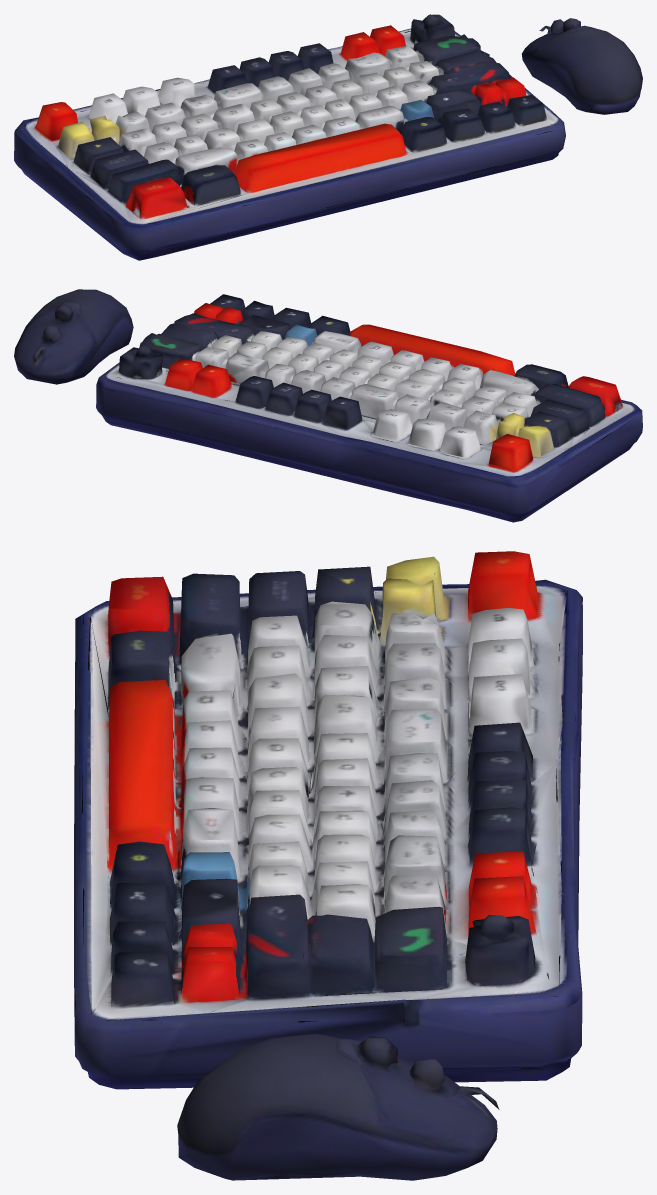
The model's file is keyboard.glb.
3 views of the same model, one above another, from view 1: azimuth 30°, elevation 25°; view 2: azimuth 150°, elevation 25°; view 3: azimuth 270°, elevation 25° (orthographic). The views are drawn at different scales.
Visible parts, largest first — view 1: low; view 2: low; view 3: low.
Part boxes in pixels (x1,y1,x2,y2): low: [14, 14, 642, 260]; low: [14, 289, 642, 522]; low: [74, 551, 582, 1180].
Size of the model in its own units: 0.9798 by 0.1366 by 0.3936.
1 material, 1 textured.
